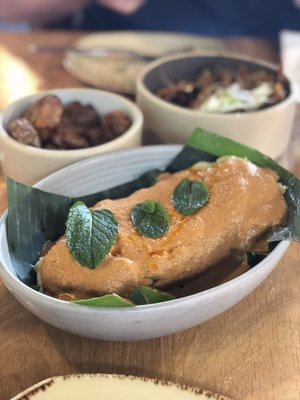sushi: (0, 73, 296, 344), (135, 51, 300, 161), (0, 87, 144, 186)
